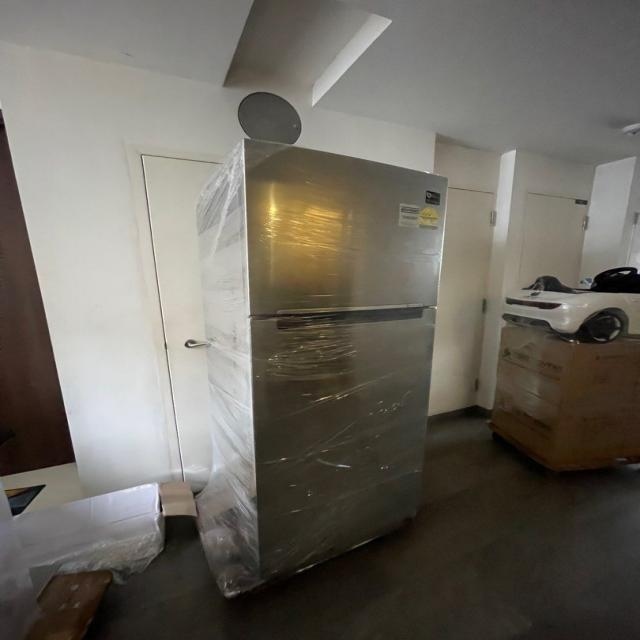refrigerator: (235, 135, 441, 586)
